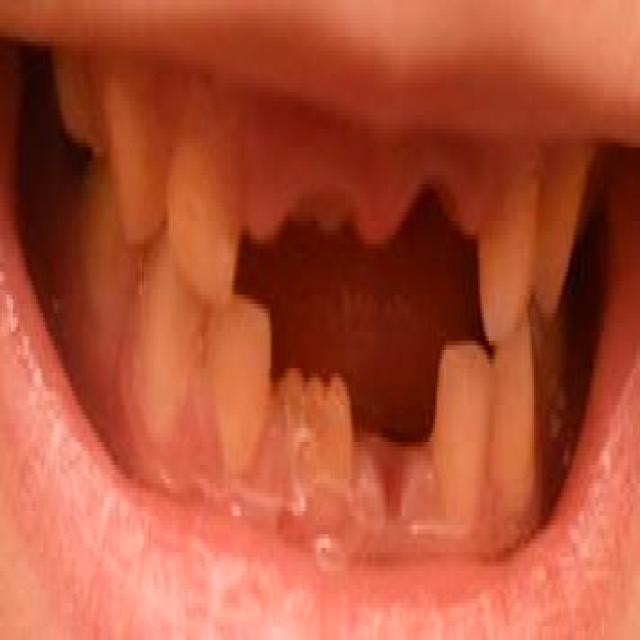hypodontia: (200, 97, 579, 341), (210, 295, 534, 548)
